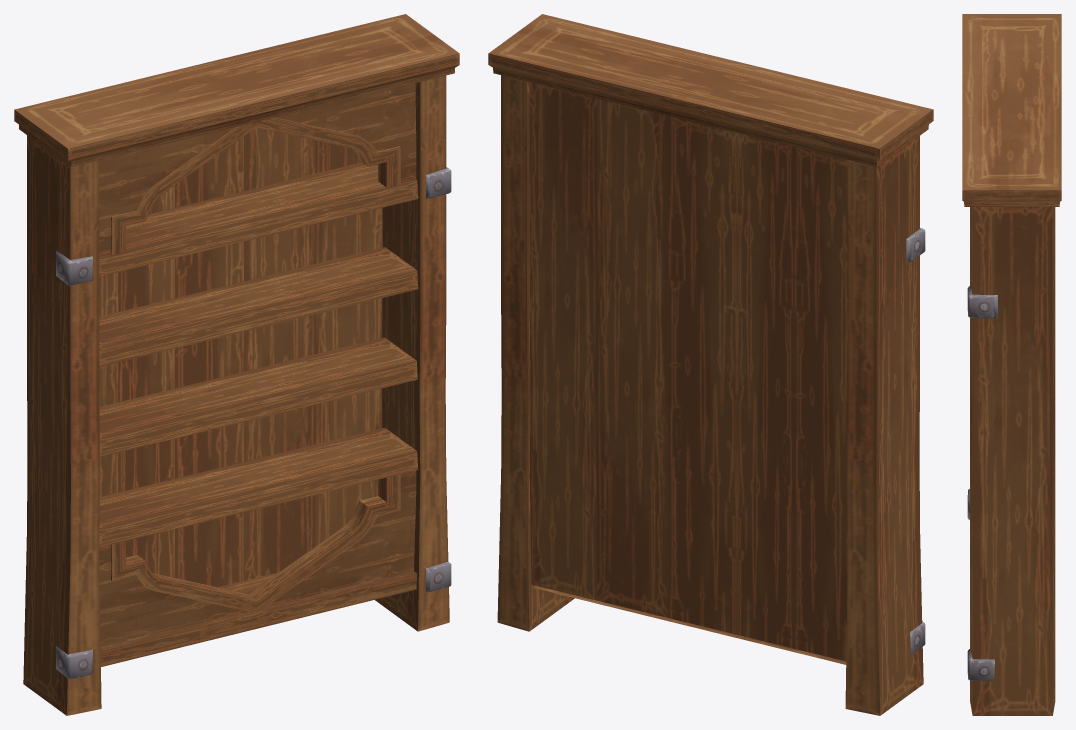
Rendered from Bookcase_1.fbx.
The picture shows the model from 3 angles, left to right: view 1: azimuth 30°, elevation 25°; view 2: azimuth 150°, elevation 25°; view 3: azimuth 270°, elevation 25°; orthographic projection. The views are drawn at different scales.
Parts seen in each view (by area): view 1: Bookcase_1; view 2: Bookcase_1; view 3: Bookcase_1.
Boxes of the visible parts, x1=… form: Bookcase_1: x1=14, y1=14, x2=459, y2=715; Bookcase_1: x1=488, y1=14, x2=933, y2=715; Bookcase_1: x1=962, y1=14, x2=1061, y2=715.
Bounding box in the file's own units: 174 × 243 × 41.46.
